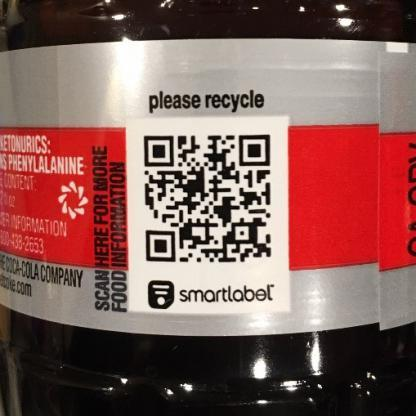qr_code: (144, 134, 271, 264)
